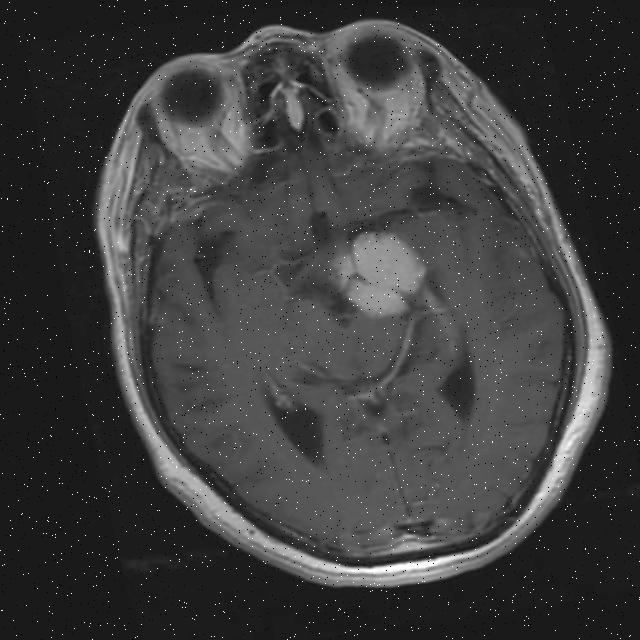Meningioma: (322, 221, 438, 327)
